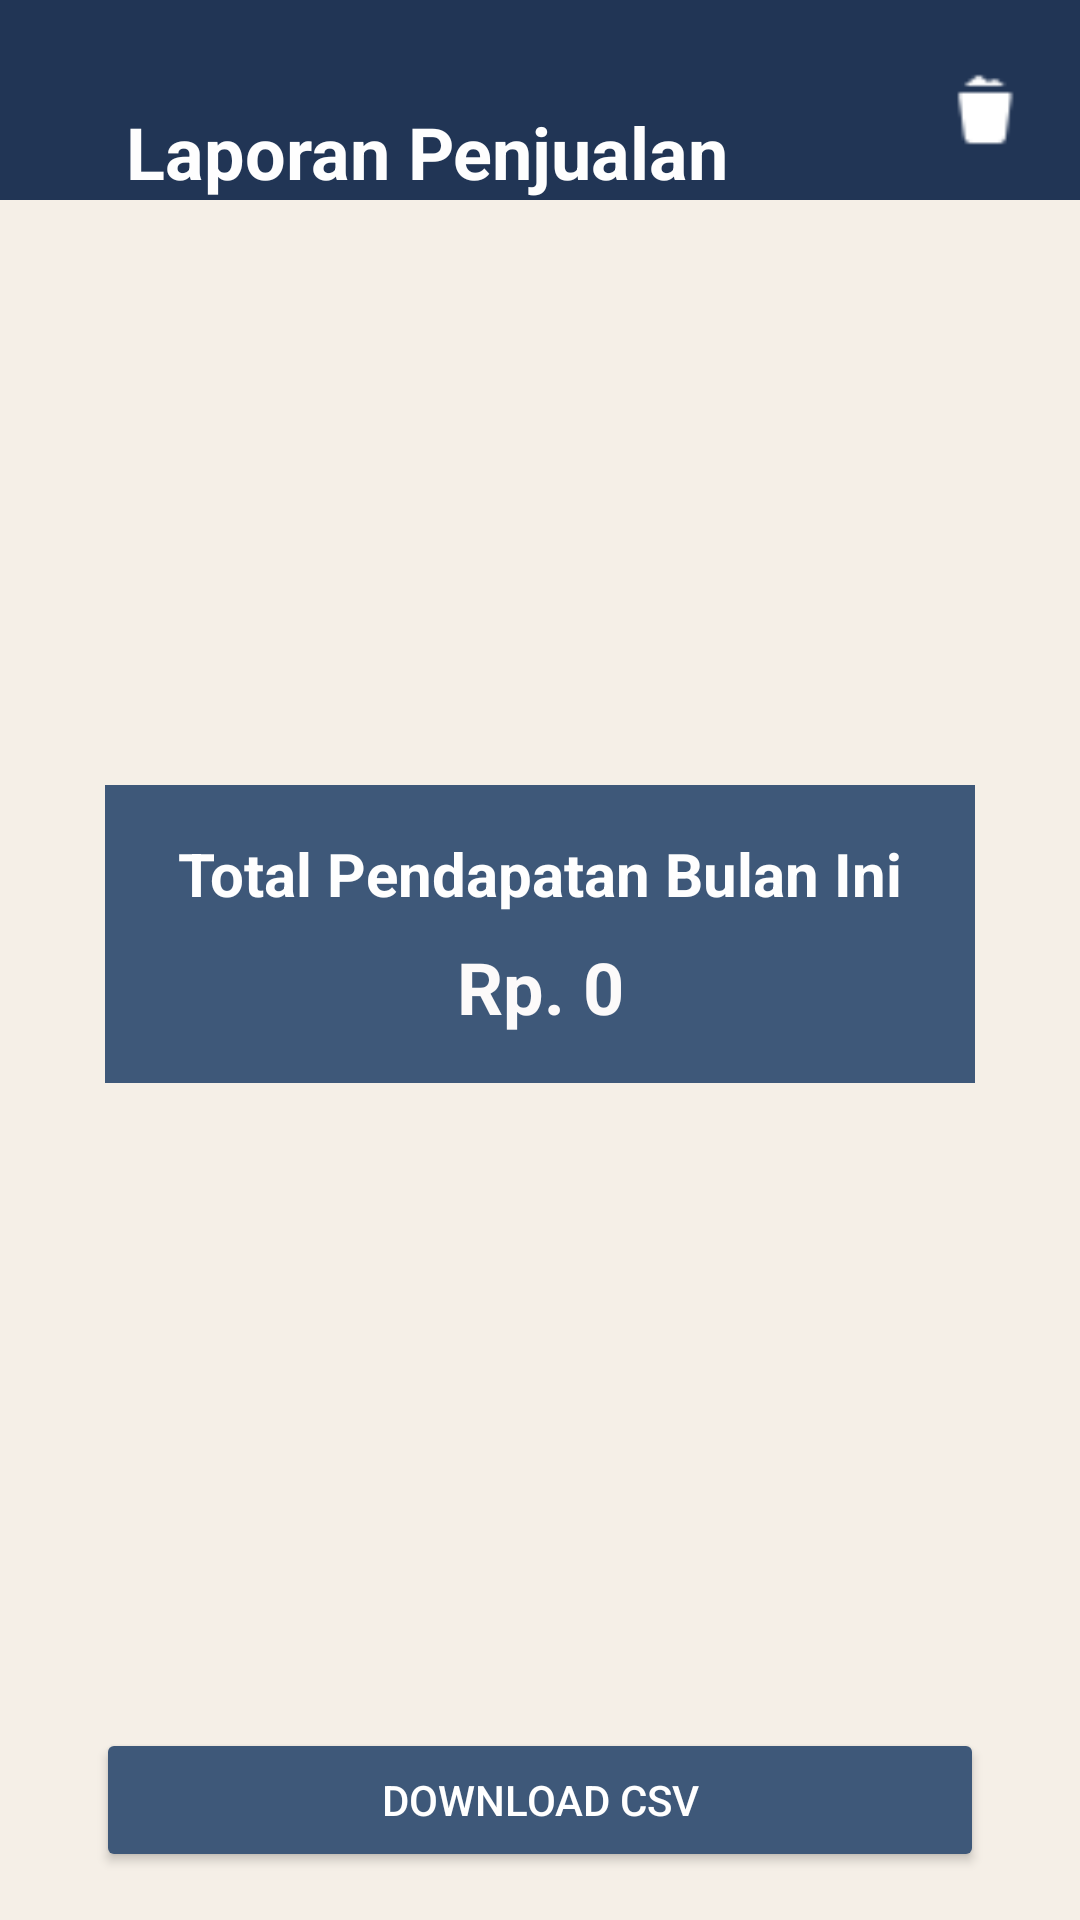

Point at icon controls on the screen. Image size 1080*1920, points as [x,y].
Reset Laporan: [985,110]
